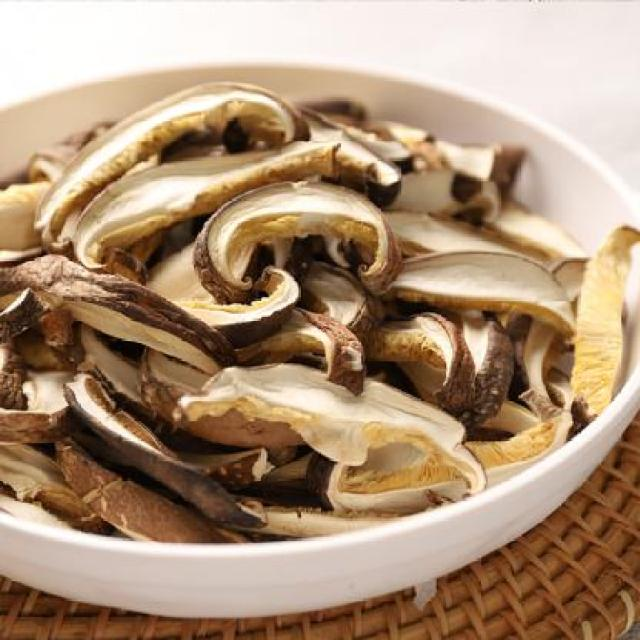Mushroom: (174, 154, 420, 318)
